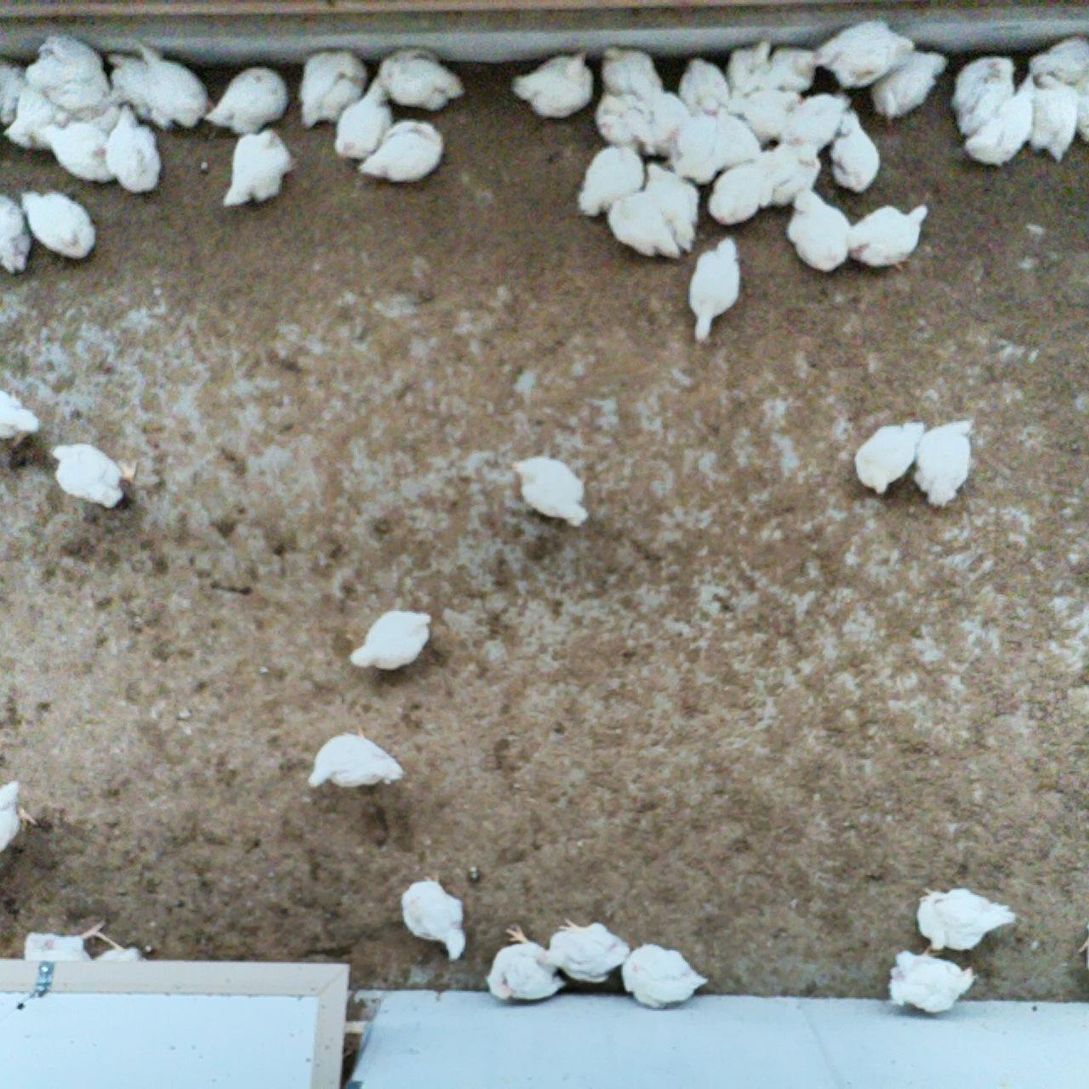chicken: (915, 882, 1018, 951), (818, 21, 915, 93), (598, 186, 686, 263), (483, 925, 570, 1002), (306, 724, 405, 790), (223, 125, 302, 207), (539, 916, 635, 983), (890, 941, 978, 1012), (204, 65, 293, 135), (142, 45, 217, 128), (510, 49, 595, 121), (787, 185, 854, 274), (871, 55, 948, 132), (687, 236, 742, 343), (623, 946, 713, 1011), (359, 118, 445, 186), (961, 91, 1037, 167), (297, 50, 370, 129), (915, 421, 979, 511), (400, 877, 467, 962), (844, 207, 929, 272), (53, 445, 138, 509), (710, 157, 790, 224), (25, 39, 111, 101), (854, 421, 927, 494), (22, 191, 97, 262), (514, 456, 590, 526), (644, 162, 702, 252), (105, 107, 164, 195), (379, 53, 466, 112), (581, 140, 647, 217), (3, 86, 83, 149), (349, 609, 430, 670), (334, 81, 392, 163), (42, 122, 120, 181), (779, 95, 853, 155), (592, 92, 662, 154), (636, 86, 697, 157), (678, 58, 746, 121), (105, 51, 167, 120), (761, 138, 824, 205), (833, 111, 883, 195), (50, 80, 126, 135), (707, 99, 765, 171), (955, 72, 1018, 138), (21, 914, 104, 964), (1018, 34, 1089, 90), (949, 57, 1014, 117), (666, 115, 723, 181), (1036, 74, 1079, 158), (742, 88, 803, 146), (600, 45, 667, 96), (0, 779, 43, 852), (724, 38, 775, 93), (0, 191, 32, 277), (86, 928, 155, 965), (0, 388, 41, 448), (773, 44, 823, 93), (0, 57, 31, 124), (1077, 82, 1089, 152), (1080, 919, 1089, 973)
